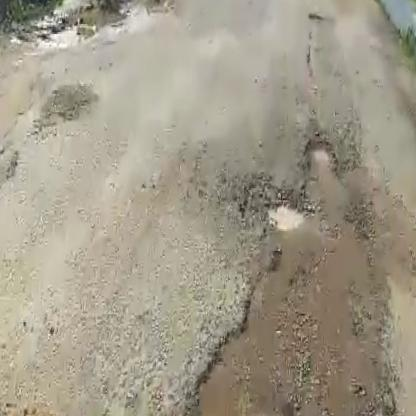pothole: (232, 180, 305, 248), (300, 136, 341, 177)
